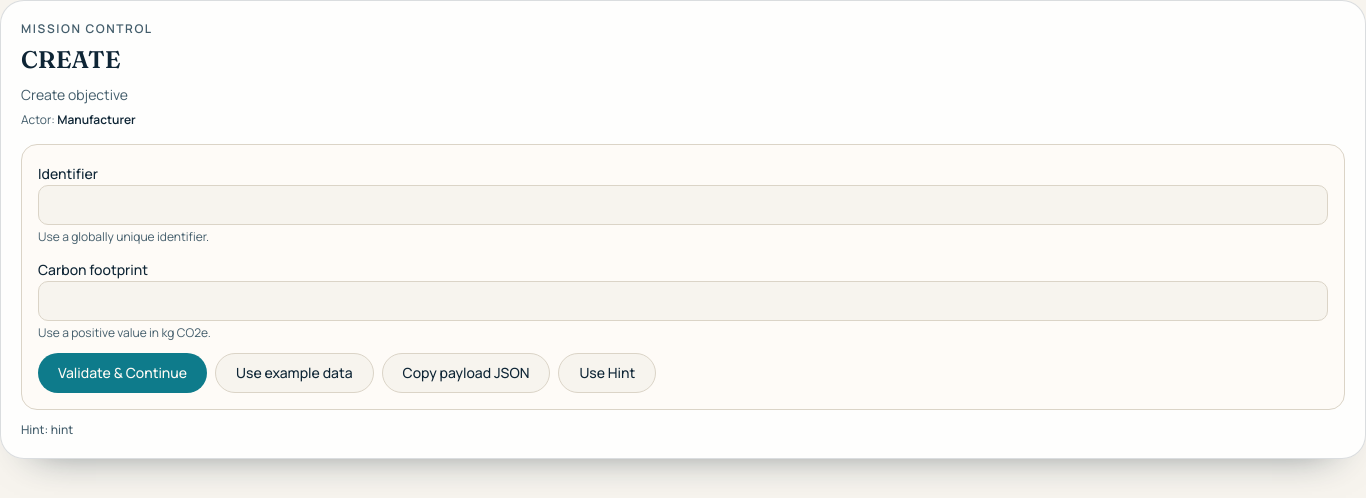
Test case: StepInteractionRenderer › uses request example values and copies current payload JSON
Step 1. Click the button with test id "cirpass-level-use-example" → (294, 373), box [215,353,374,393]
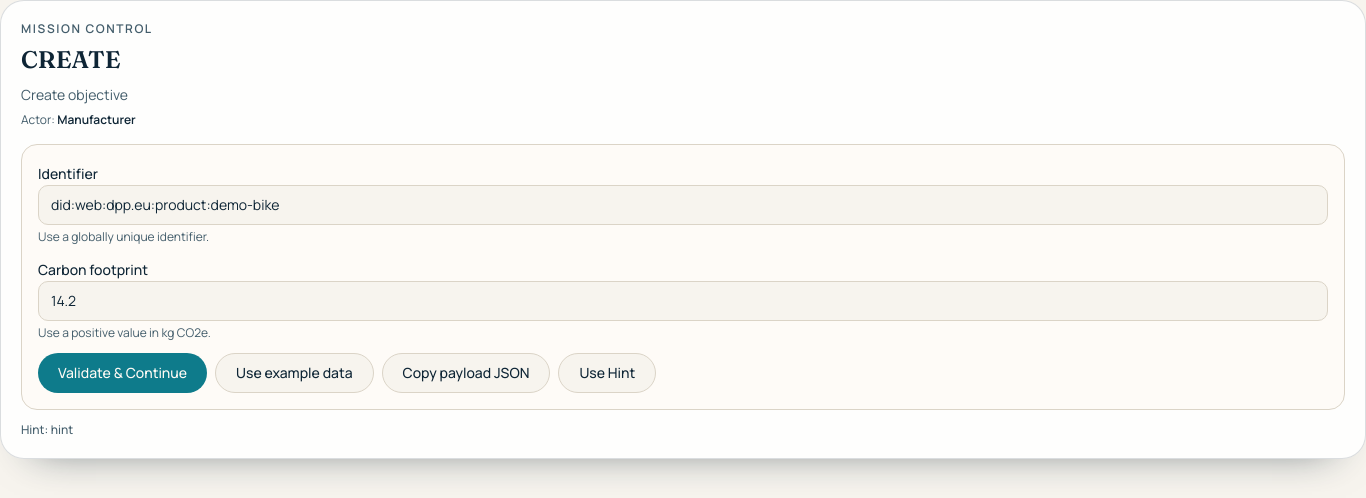
expect the field with test id "cirpass-create-identifier" holds "did:web:dpp.eu:product:demo-bike": met, box [38,185,1328,225]
expect the number field with test id "cirpass-create-carbon" holds "14.2": met, box [38,281,1328,321]
Step 2. Click the button with test id "cirpass-level-copy-json" → (466, 373), box [382,353,550,393]
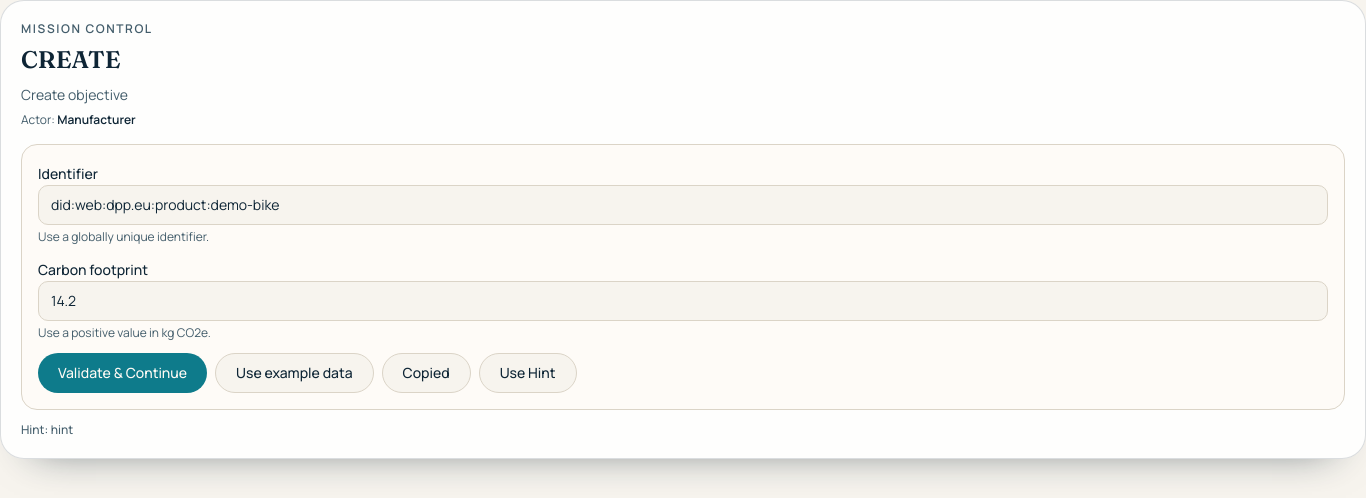
expect the button with test id "cirpass-level-copy-json" reads "Copied": met, box [382,353,471,393]
